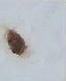Corrosion: (6, 28, 29, 57)
